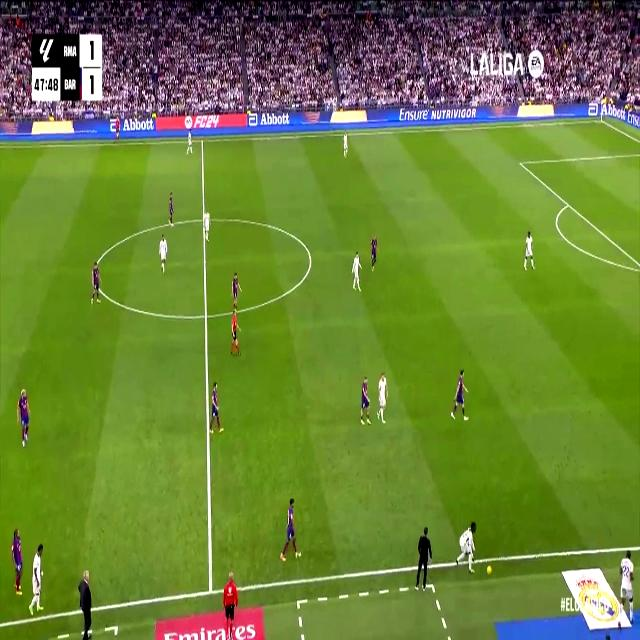bigarea_top_inner: (516, 155, 524, 169)
corner: (598, 116, 604, 125)
halfcircle_bottom: (200, 302, 212, 328)
halfcircle_top: (198, 209, 208, 229)
midline_bottom_intersection: (204, 575, 218, 604)
midline_top_intersection: (199, 134, 205, 146)
top_arc_area_intersection: (564, 197, 572, 210)
